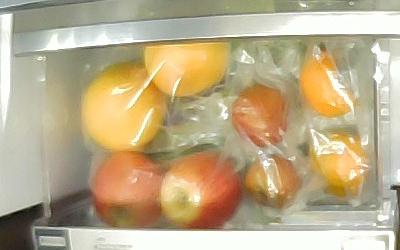apple_vinyl: (160, 150, 241, 229), (93, 151, 160, 229)
grapefruit_vinyl: (84, 62, 167, 151), (144, 41, 230, 97)
persimmon_vinyl: (309, 128, 371, 197), (300, 50, 358, 117)
prune_vinyl: (232, 83, 288, 148), (244, 155, 301, 209)
